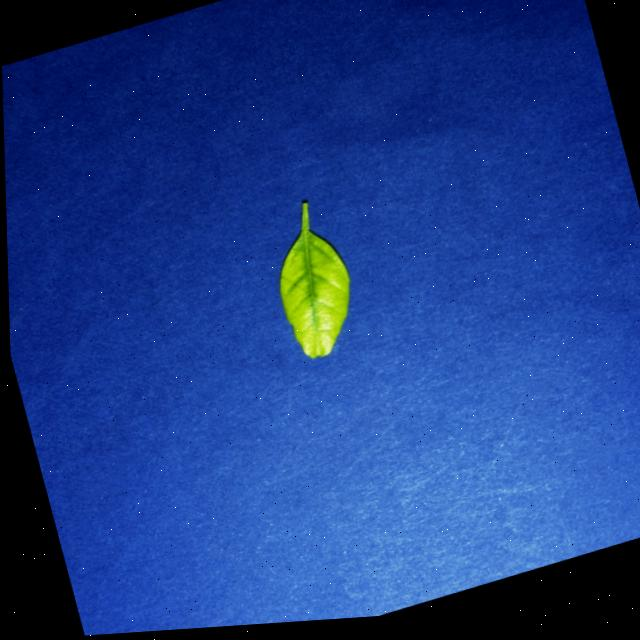greening: (280, 201, 349, 357)
